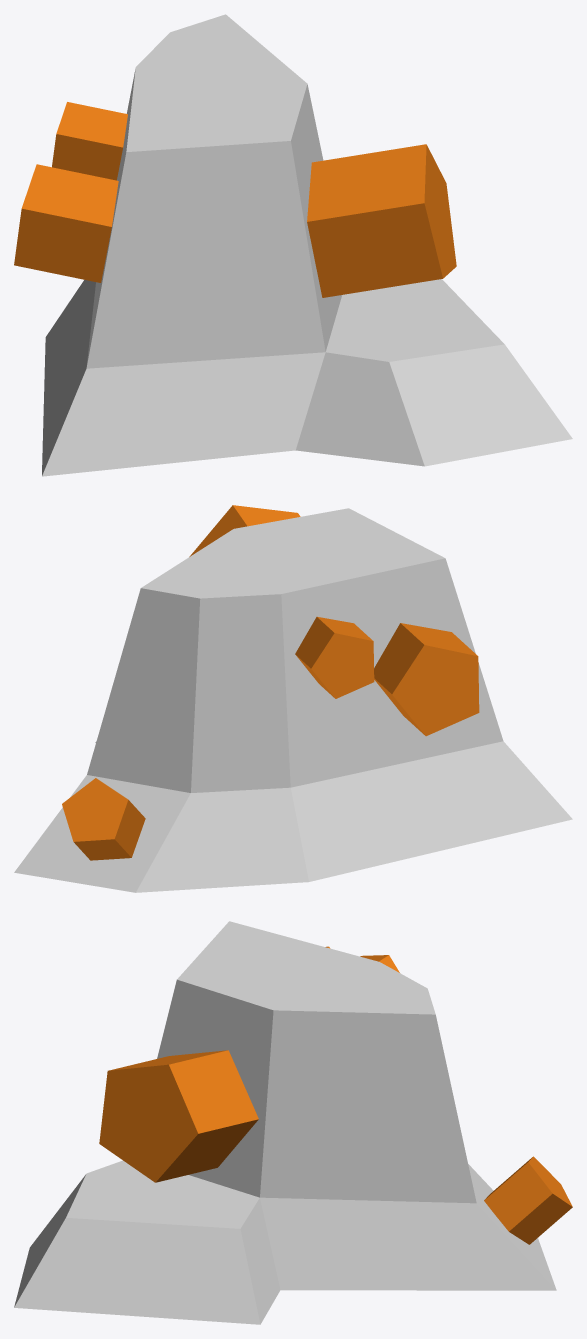
The model's file is Bronce_Tipo3.fbx.
3 views of the same model, one above another, from view 1: azimuth 30°, elevation 25°; view 2: azimuth 150°, elevation 25°; view 3: azimuth 270°, elevation 25° (orthographic). The views are drawn at different scales.
Visible parts, largest first — view 1: base.020, cobre.005, cobre.007, cobre.006; view 2: base.020, cobre.007, cobre.008, cobre.006, cobre.005; view 3: base.020, cobre.005, cobre.008.
Boxes of the visible parts, x1,y1,x2,y2 form: base.020: (42,14,572,476); cobre.005: (307,144,456,297); cobre.007: (14,164,118,282); cobre.006: (52,102,127,180); base.020: (14,508,572,892); cobre.007: (374,623,479,736); cobre.008: (62,778,145,860); cobre.006: (295,616,374,698); cobre.005: (189,505,300,556); base.020: (14,921,556,1324); cobre.005: (99,1050,258,1182); cobre.008: (484,1156,572,1244).
Bounding box in the file's own units: 75.27 × 41.9 × 86.3.
